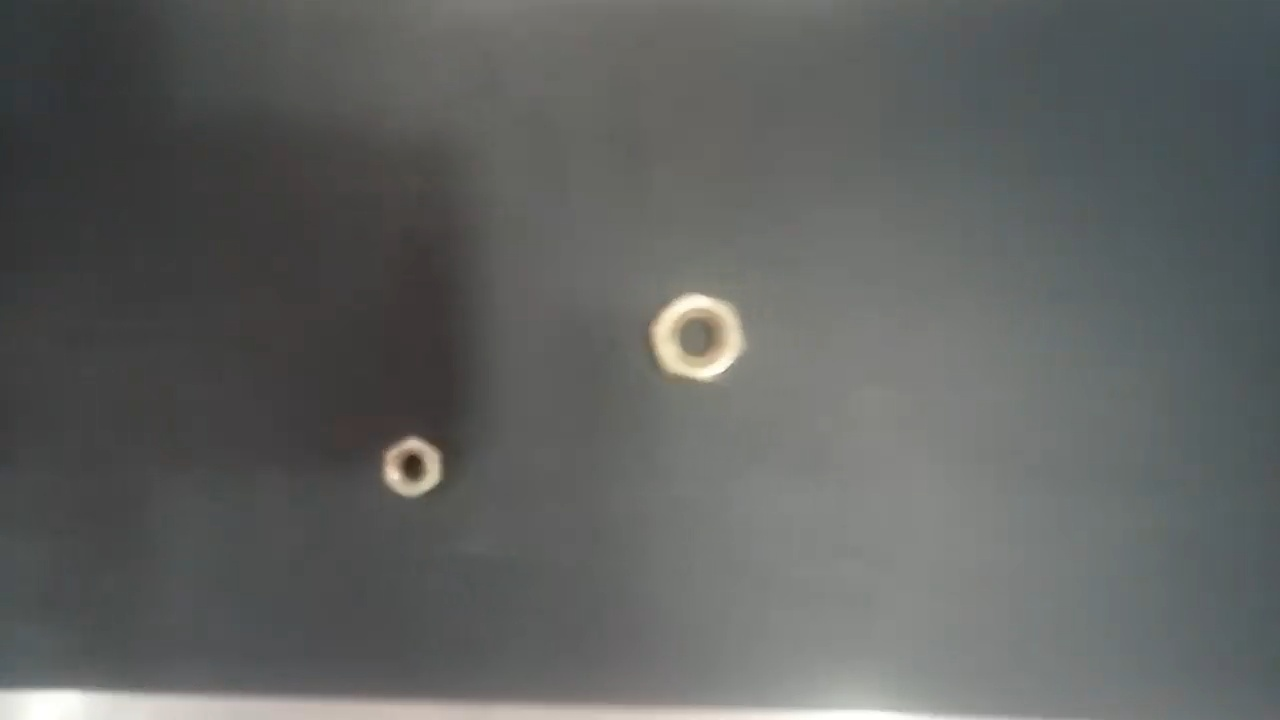Bolt: (645, 287, 750, 382), (381, 430, 446, 500)
